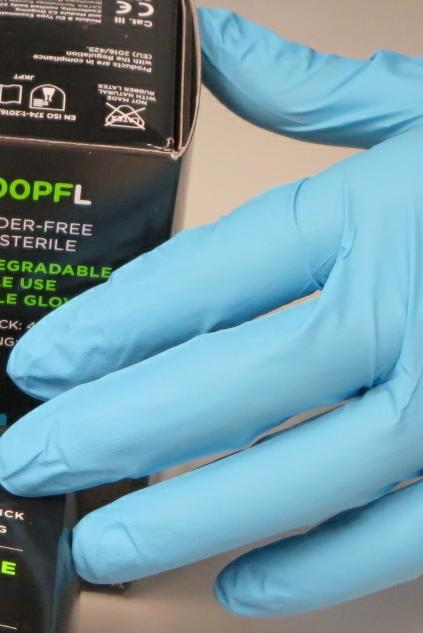gloves: (0, 10, 423, 624)
